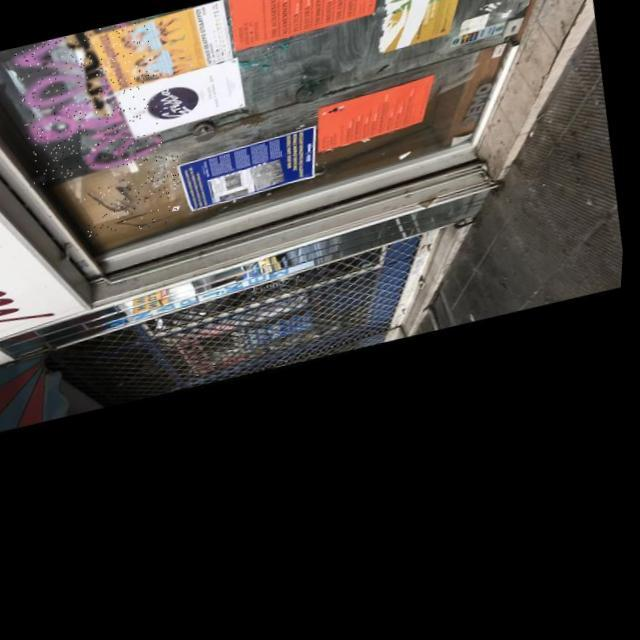-: (7, 18, 172, 188), (83, 172, 183, 242), (146, 154, 187, 200)
